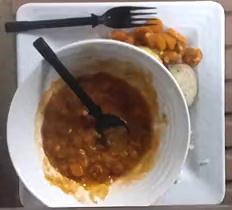carrots: (108, 18, 201, 65)
curry: (40, 71, 155, 198)
